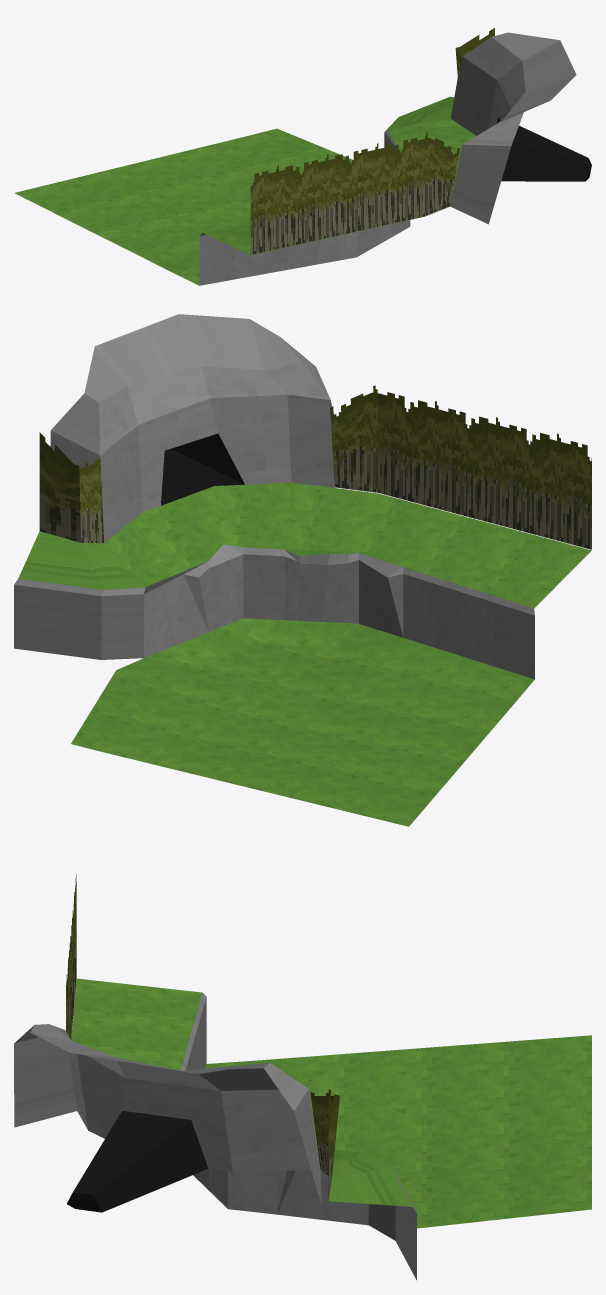
The model's file is DemoScene.fbx.
3 renders of one model, top to bottom at view 1: azimuth 30°, elevation 25°; view 2: azimuth 150°, elevation 25°; view 3: azimuth 270°, elevation 25°, orthographic. The views are drawn at different scales.
Parts seen in each view (by area): view 1: demo_scene; view 2: demo_scene; view 3: demo_scene.
Part boxes in pixels (bbox=[...]): demo_scene: bbox=[14, 28, 591, 285]; demo_scene: bbox=[14, 314, 591, 826]; demo_scene: bbox=[14, 874, 591, 1280].
Bounding box in the file's own units: 7.51 × 3.14 × 7.
